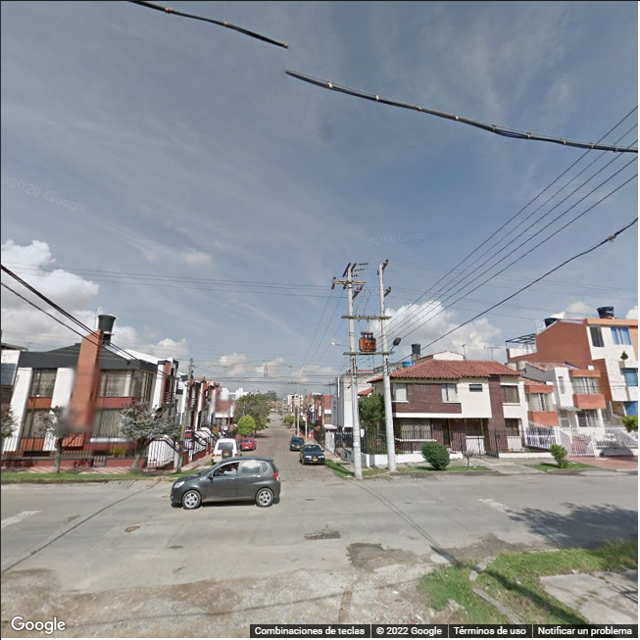D40: (355, 538, 386, 567)
